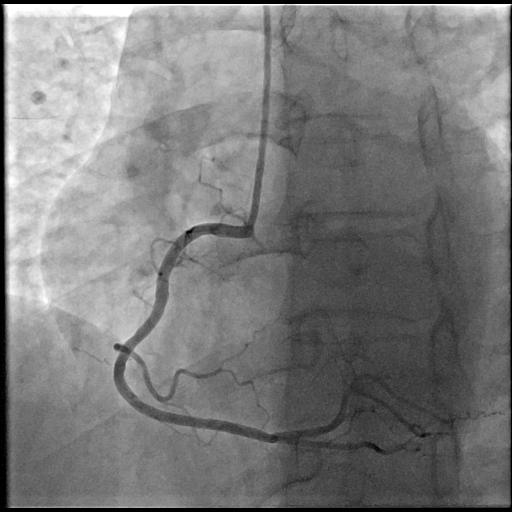RCA: (114, 223, 342, 443)
catherter: (242, 6, 271, 237)
